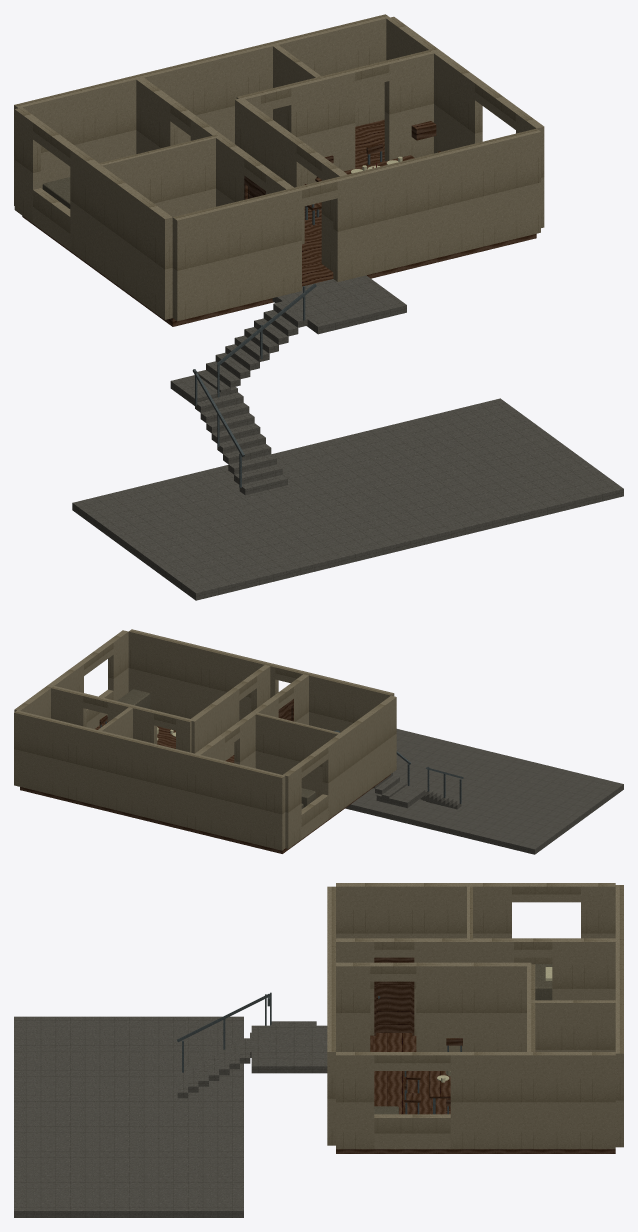
Rendered from apartment.glb.
The picture shows the model from 3 angles, top to bottom: view 1: azimuth 30°, elevation 25°; view 2: azimuth 150°, elevation 25°; view 3: azimuth 270°, elevation 25°; orthographic projection. The views are drawn at different scales.
Parts seen in each view (by area): view 1: Stair.Courtyard, Home.South.001, Home.North, Home.South, Home.West, Home.KitchenBedroom, Home.East.001, Home.StoreDoor.001, Home.Landing, Home.Floor, Home.LivingDoor.001, Home.StoreDoor (+12 smaller); view 2: Home.North, Stair.Courtyard, Home.South.001, Home.West, Home.KitchenBedroom, Home.South, Home.LivingDoor.001, Home.West.001, Home.East.001, Home.Floor, Home.East, Home.StoreDoor.001 (+19 smaller); view 3: Stair.Courtyard, Home.East.001, Home.LivingDoor.001, Home.West, Home.Floor, Home.BathEast, Home.BedroomDoor.001, Home.East, Home.Landing, Home.LivingDoor, Home.East.003, Home.North (+14 smaller).
Part boxes in pixels (x1,y1,x2,y2): Stair.Courtyard: (72, 398, 623, 600); Home.South.001: (333, 128, 540, 281); Home.North: (14, 14, 389, 205); Home.South: (172, 187, 301, 321); Home.West: (70, 148, 172, 319); Home.KitchenBedroom: (99, 134, 217, 216); Home.East.001: (386, 16, 482, 153); Home.StoreDoor.001: (384, 50, 433, 161); Home.Landing: (272, 275, 406, 334); Home.Floor: (22, 119, 536, 326); Home.LivingDoor.001: (235, 98, 304, 244); Home.StoreDoor: (319, 69, 355, 171); Home.North: (14, 710, 285, 850); Stair.Courtyard: (345, 729, 623, 854); Home.South.001: (128, 629, 278, 720); Home.West: (322, 695, 396, 819); Home.KitchenBedroom: (254, 712, 339, 798); Home.South: (301, 671, 394, 732); Home.LivingDoor.001: (189, 687, 239, 760); Home.West.001: (283, 765, 301, 848); Home.East.001: (14, 663, 83, 718); Home.Floor: (20, 720, 390, 853); Home.East: (108, 630, 128, 700); Home.StoreDoor.001: (51, 686, 86, 726); Stair.Courtyard: (14, 1016, 243, 1217); Home.East.001: (450, 1052, 615, 1149); Home.LivingDoor.001: (416, 962, 531, 1051); Home.West: (336, 883, 511, 938); Home.Floor: (336, 1032, 615, 1153); Home.BathEast: (531, 1000, 615, 1051); Home.BedroomDoor.001: (552, 938, 615, 1000); Home.East: (336, 1052, 374, 1149); Home.Landing: (251, 1025, 327, 1073); Home.LivingDoor: (336, 962, 370, 1051); Home.East.003: (374, 1114, 450, 1149); Home.North: (615, 885, 623, 1147).
Size of the model in its own units: 14.62 by 5.9 by 15.92.
Materials: 8 (8 with a texture image).
